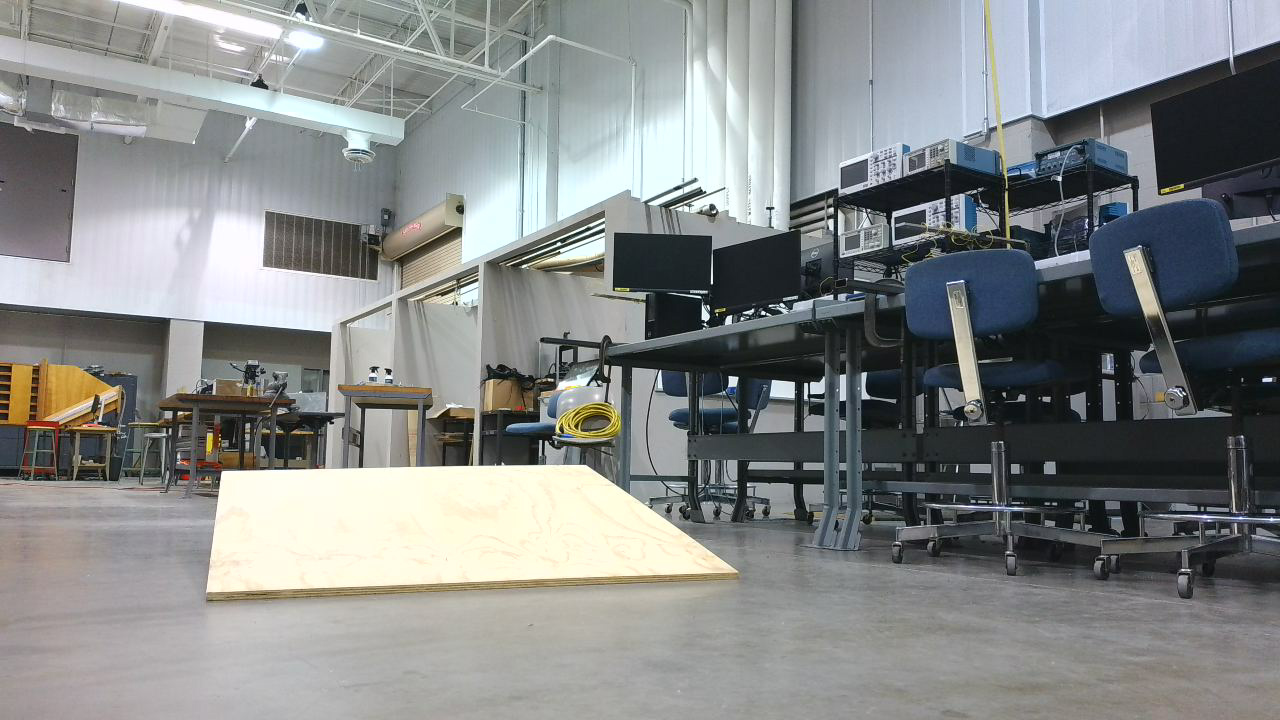ramp: (207, 466, 751, 612)
